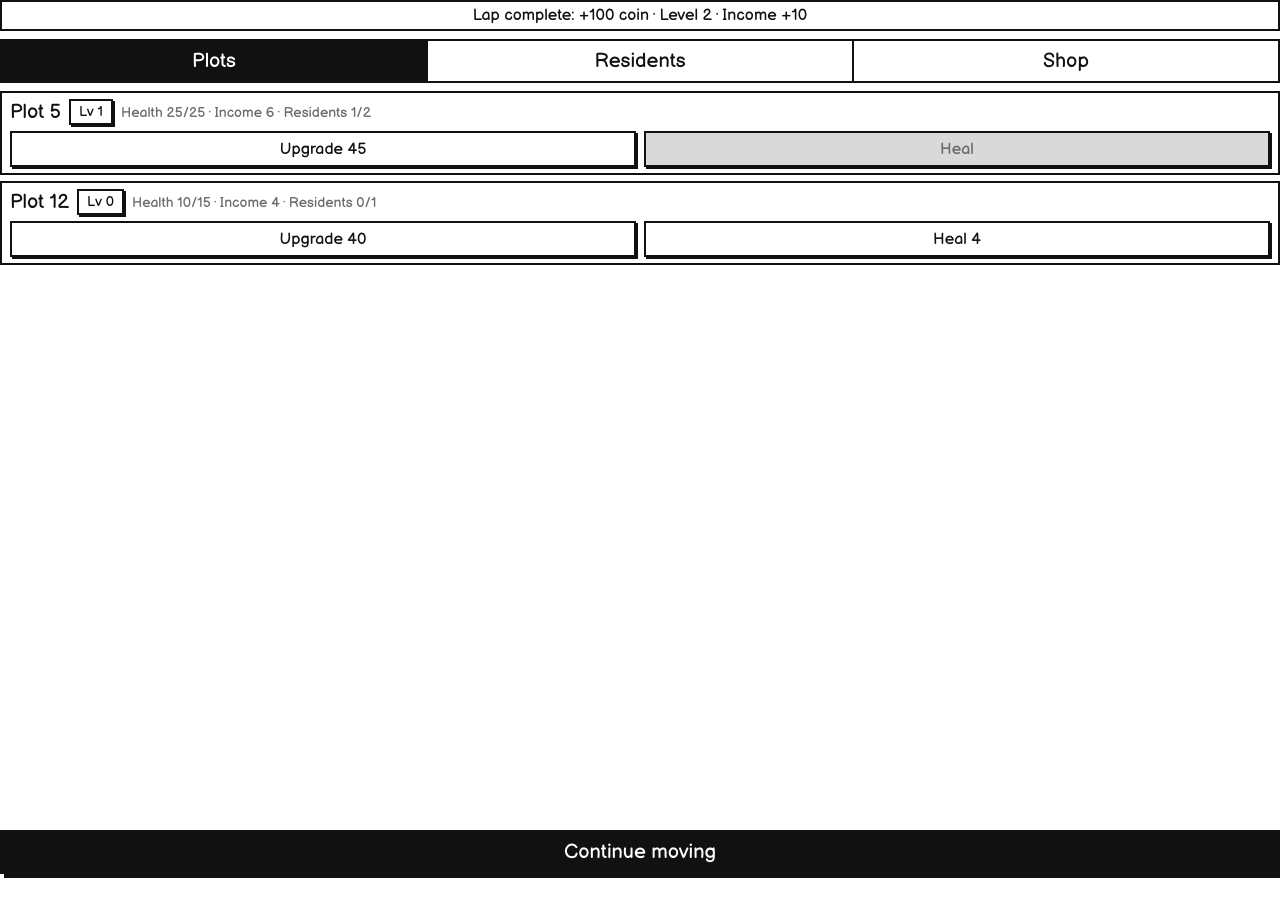
Scenario: StationView › sells every item in the shop at its price
Click the tab "Shop": click(1065, 61) [852,41,1278,81]
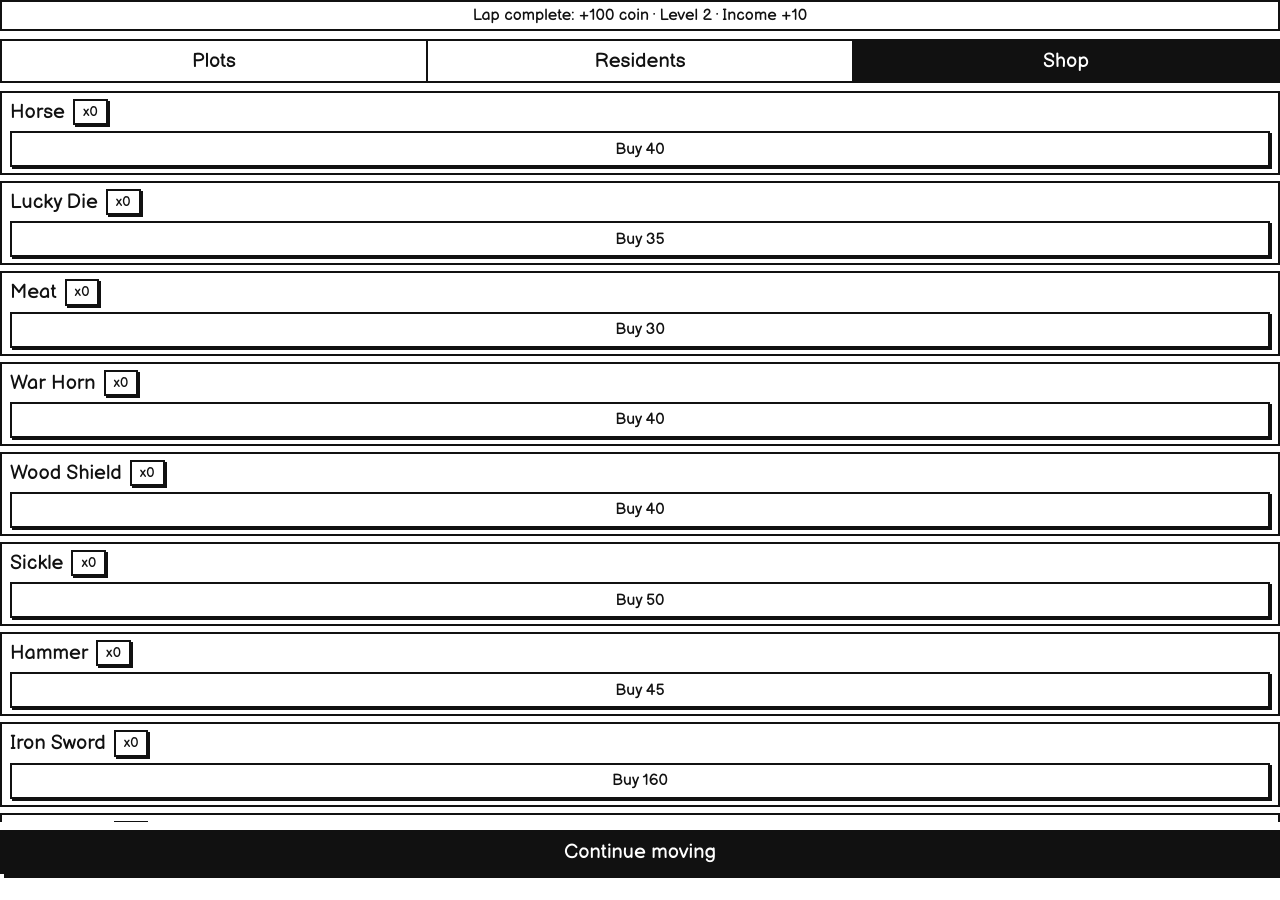
Expected: the text "Horse" is shown, [10,100,65,124]
Expected: the button "Buy 40" below "Horse" is enabled, [10,131,1270,167]
